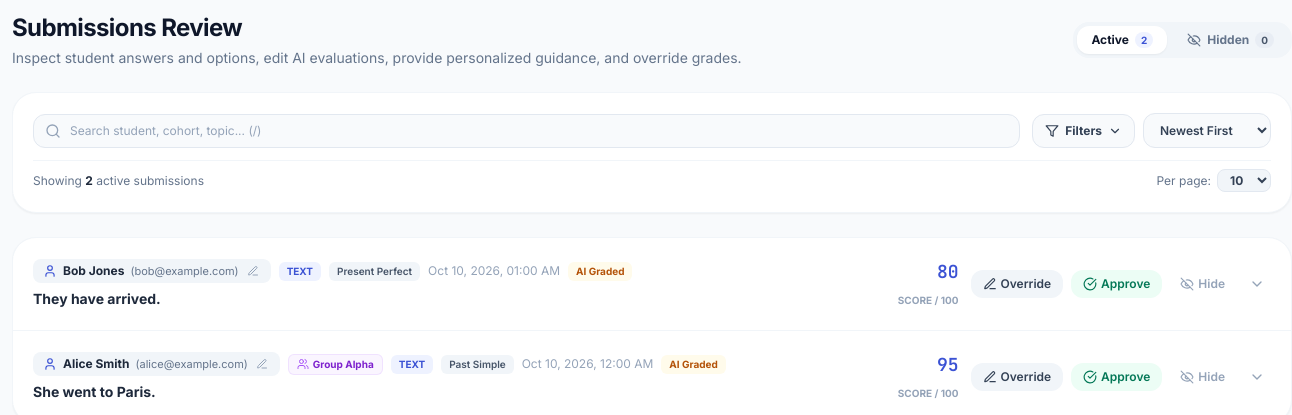
Scenario: SubmissionsReview component › renders submissions, filters by search, and toggles hide/unhide
expect the text "Alice Smith" is shown: met, box [63, 356, 130, 372]
expect the text "Bob Jones" is shown: met, box [63, 263, 124, 279]
Note: Search filter test
In the field with placeholder "Search student, cohort, topic... (/)": (527, 130) [33, 114, 1020, 148], type "Past Simple"
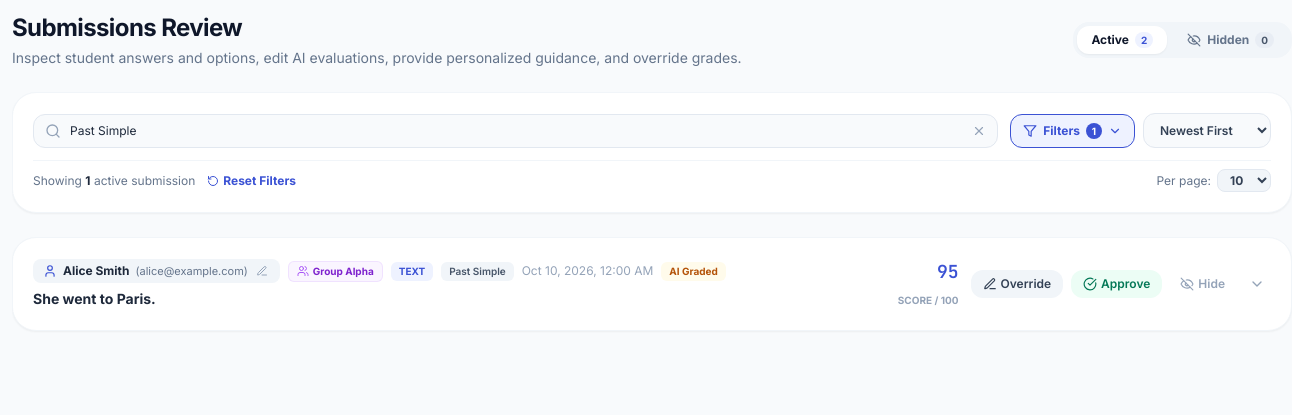
expect the text "Alice Smith" is shown: met, box [63, 263, 130, 279]
expect the text "Bob Jones" is gone: met
Note: Clear search
Clear the field with placeholder "Search student, cohort, topic... (/)": (516, 130) [33, 114, 998, 148]
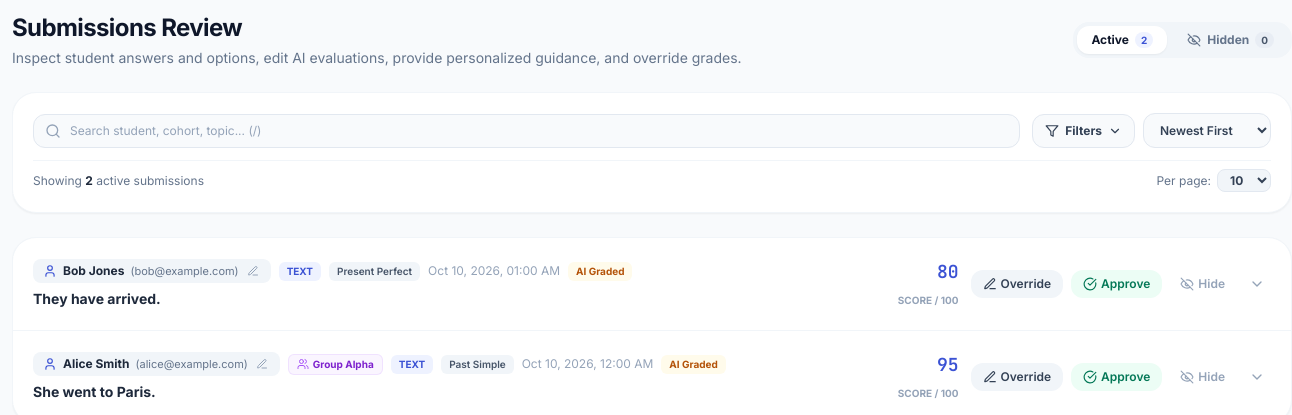
expect the text "Bob Jones" is shown: met, box [63, 263, 124, 279]
Note: Hide submission test
Click the button titled "hide from active queue" in the row of "80": (1203, 284) [1170, 270, 1235, 298]
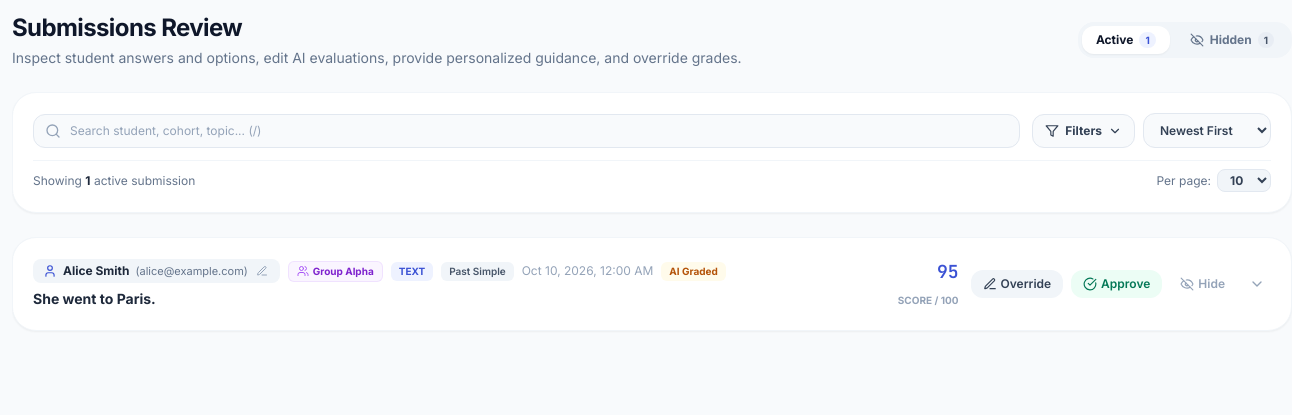
Note: Hidden tab shows the hidden item (sub-2 Bob Jones is newer than sub-1 Alice Smith)
Click the button "Hidden 1": (1232, 40) [1176, 26, 1288, 54]
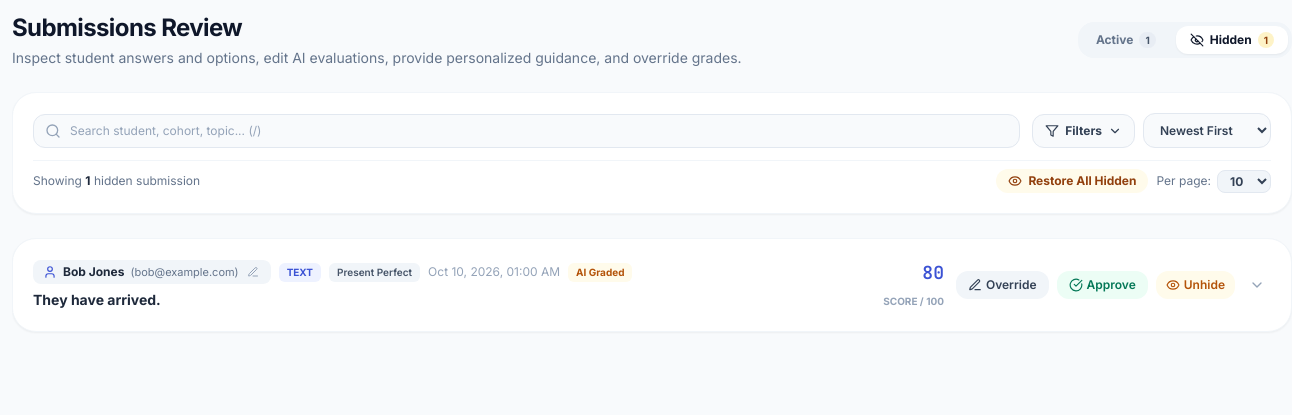
expect the text "Bob Jones" is shown: met, box [63, 264, 124, 280]
expect the button titled "restore to active queue" is shown: met, box [1156, 271, 1235, 299]
